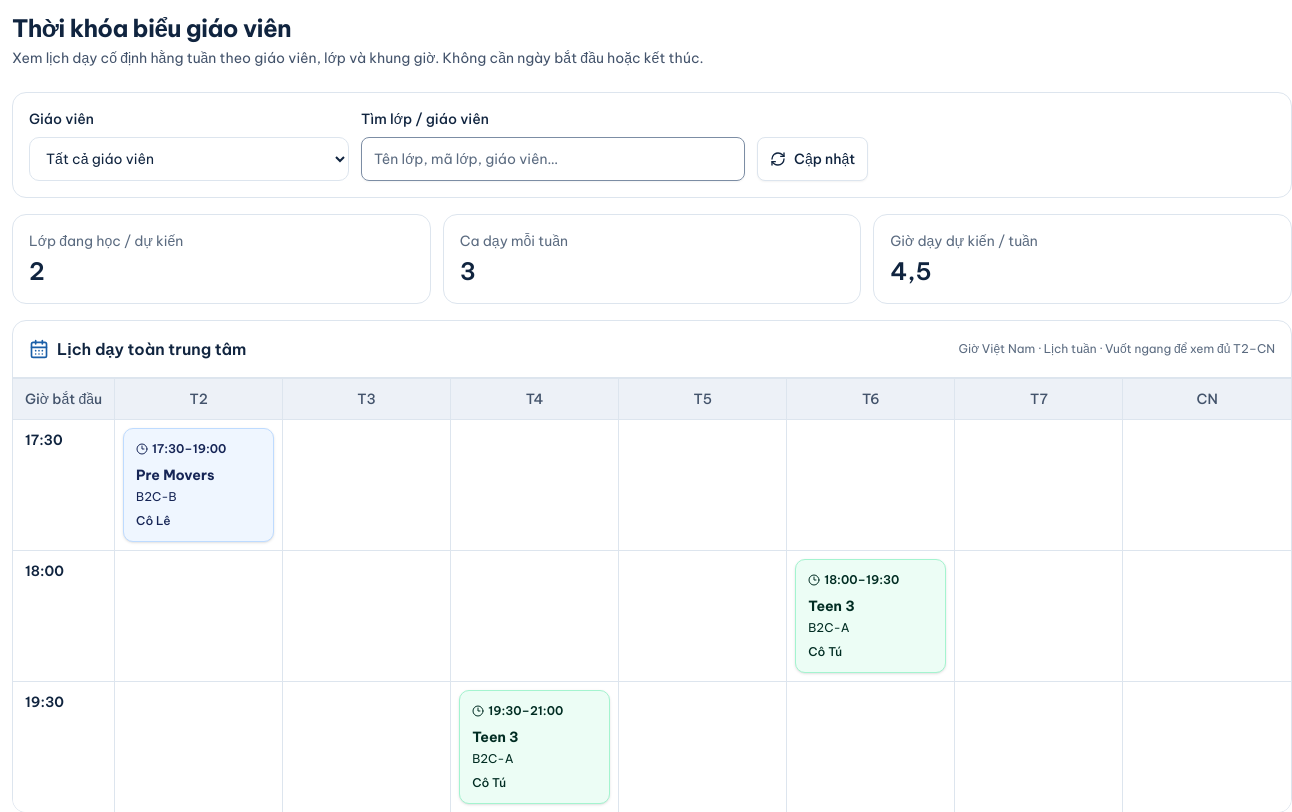
Scenario: filters the weekly timetable by teacher and keeps the class schedule links
Expected: the text "Pre Movers" is shown, left=136, top=466, right=214, bottom=484
Select "Cô Tú" in the dropdown labelled "Giáo viên": (189, 159) left=29, top=137, right=349, bottom=181
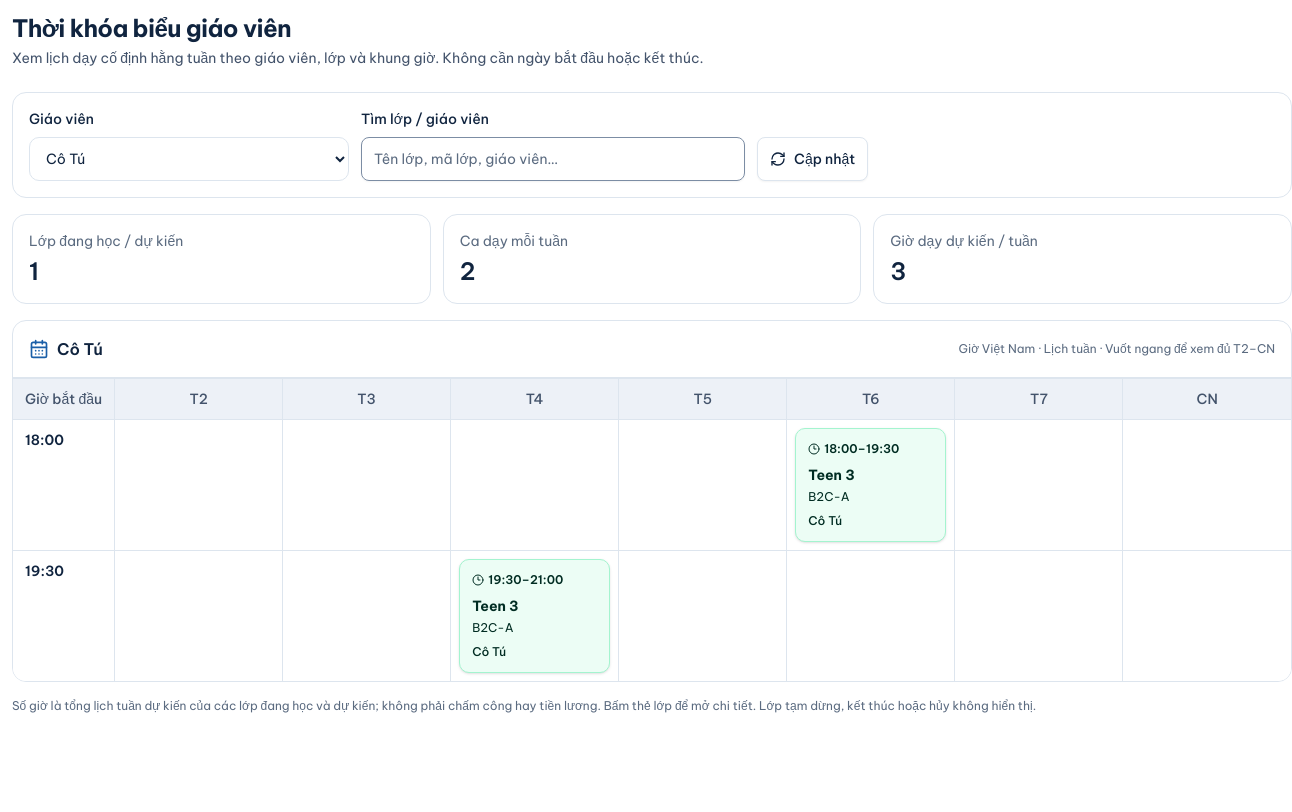
Expected: the text "19:30–21:00" is shown, left=472, top=572, right=563, bottom=587
Now the link "Pre Movers" is gone
